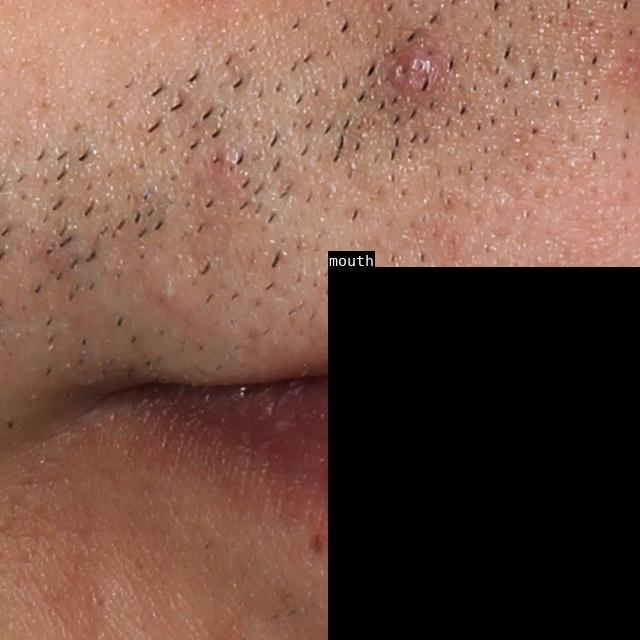nevus: (306, 532, 326, 557)
papule: (379, 41, 442, 101)
